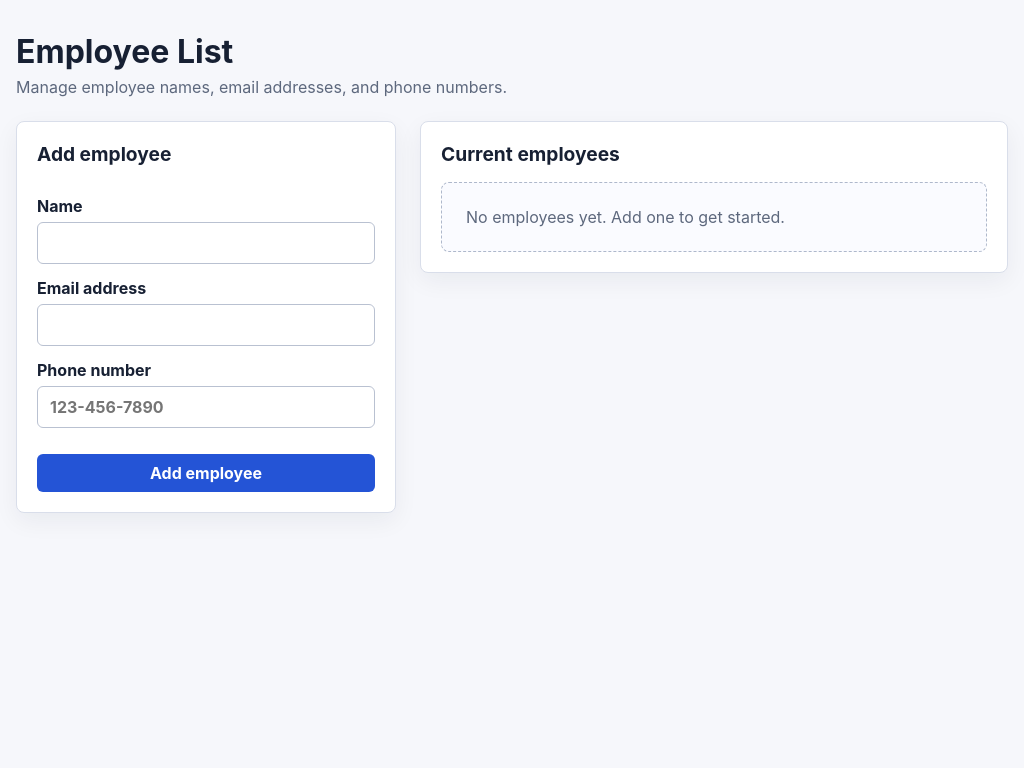
Scenario: App › shows duplicate-email alert and keeps create form values after failed create
Check: the text "No employees yet. Add one to get started." is shown, box [441,182,987,252]
Type "Ada Lovelace" into the field labelled "Name" at {"x": 206, "y": 243}, box [37,222,375,264]
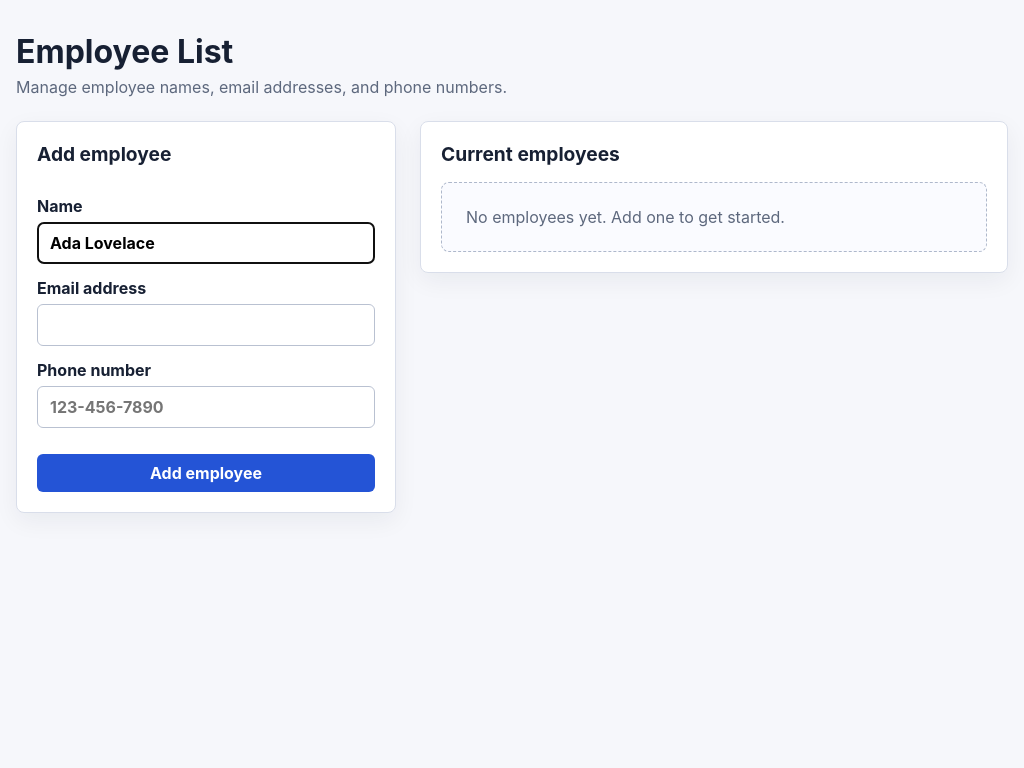
Type "ada@example.com" into the field labelled "Email address" at {"x": 206, "y": 325}, box [37,304,375,346]
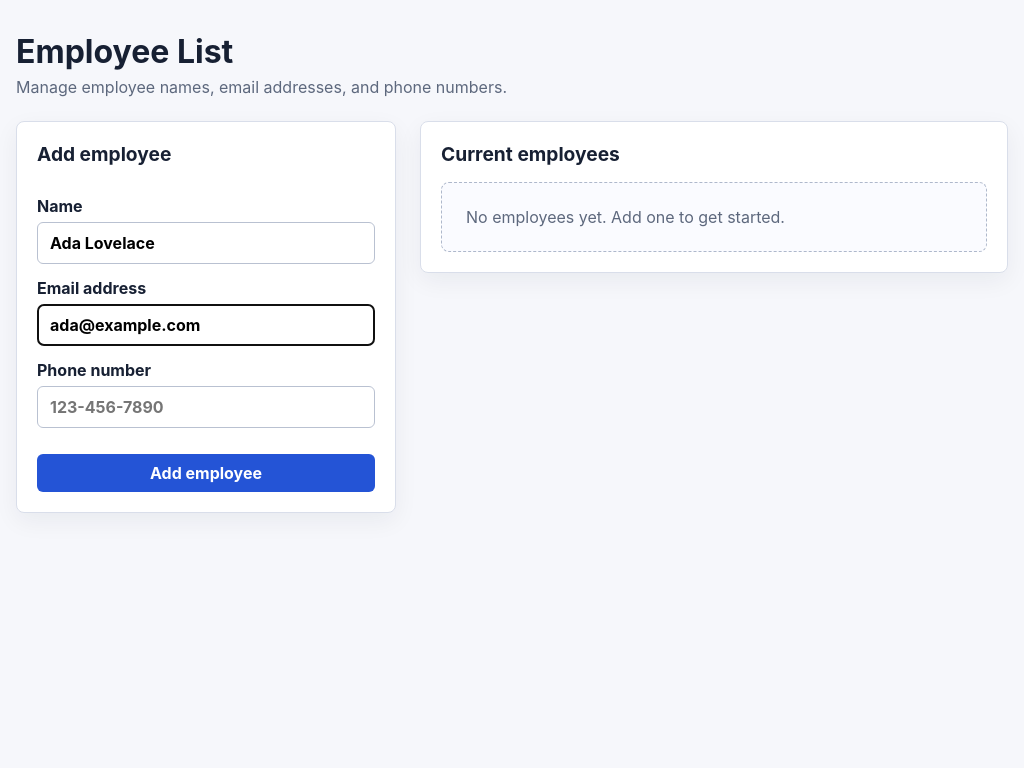
Type "555-010-0100" into the field labelled "Phone number" at {"x": 206, "y": 407}, box [37,386,375,428]
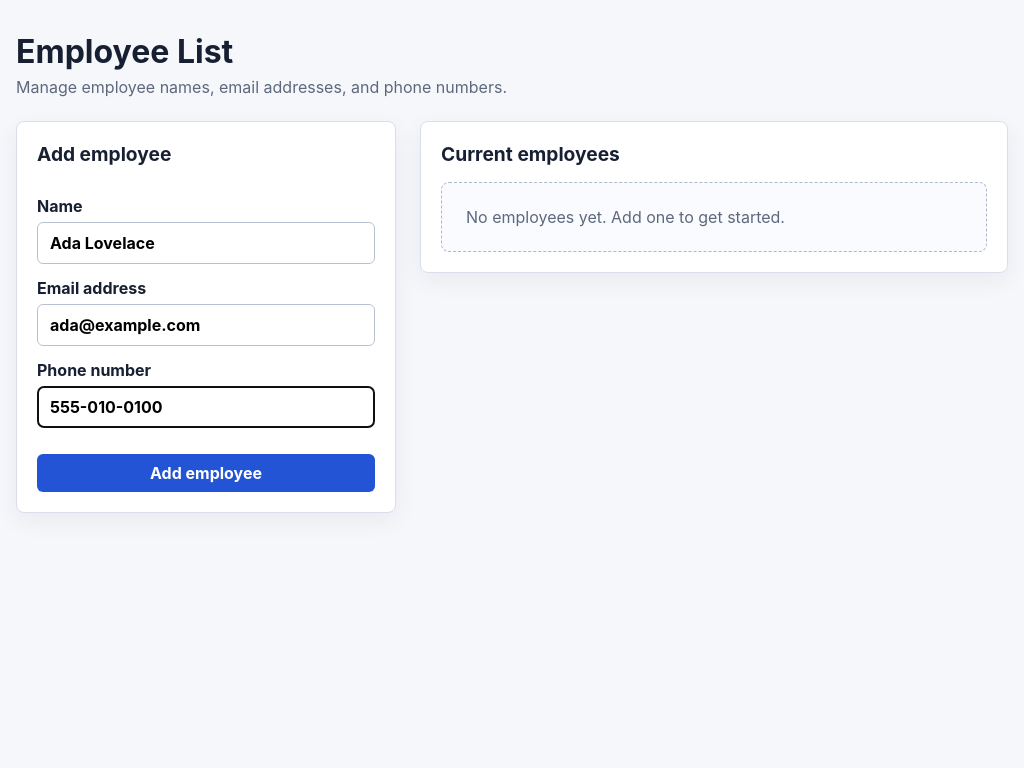
Click the button "Add employee" at {"x": 206, "y": 473}, box [37,454,375,492]
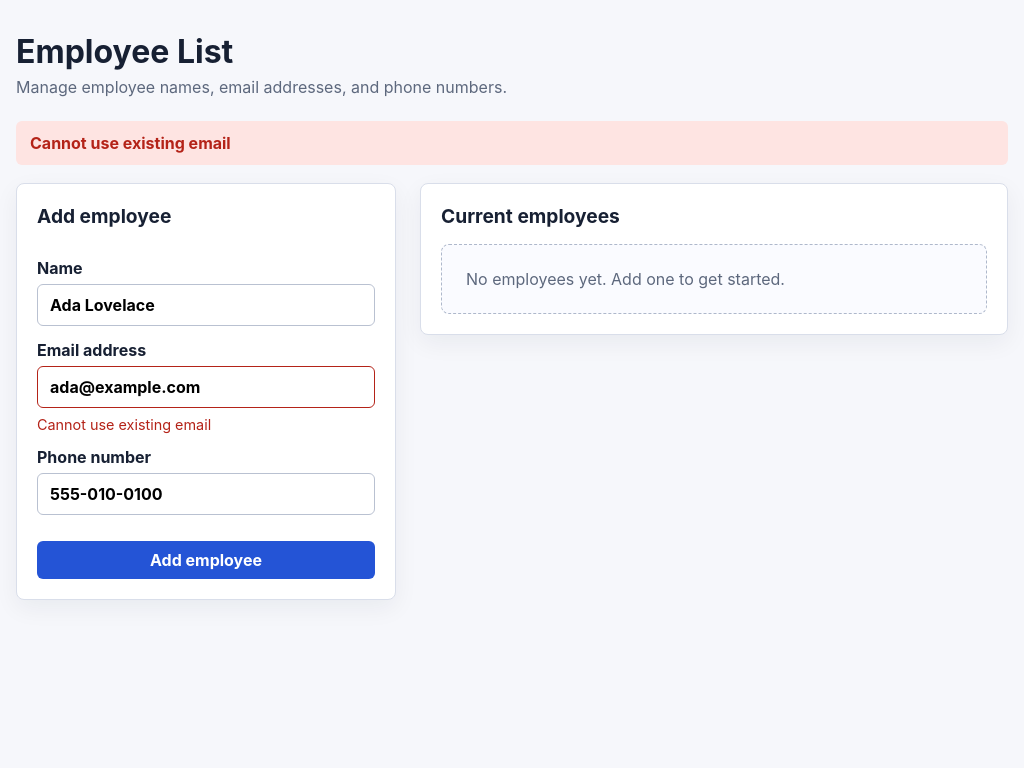
Check: the message reads "Cannot use existing email", box [30,133,231,153]
